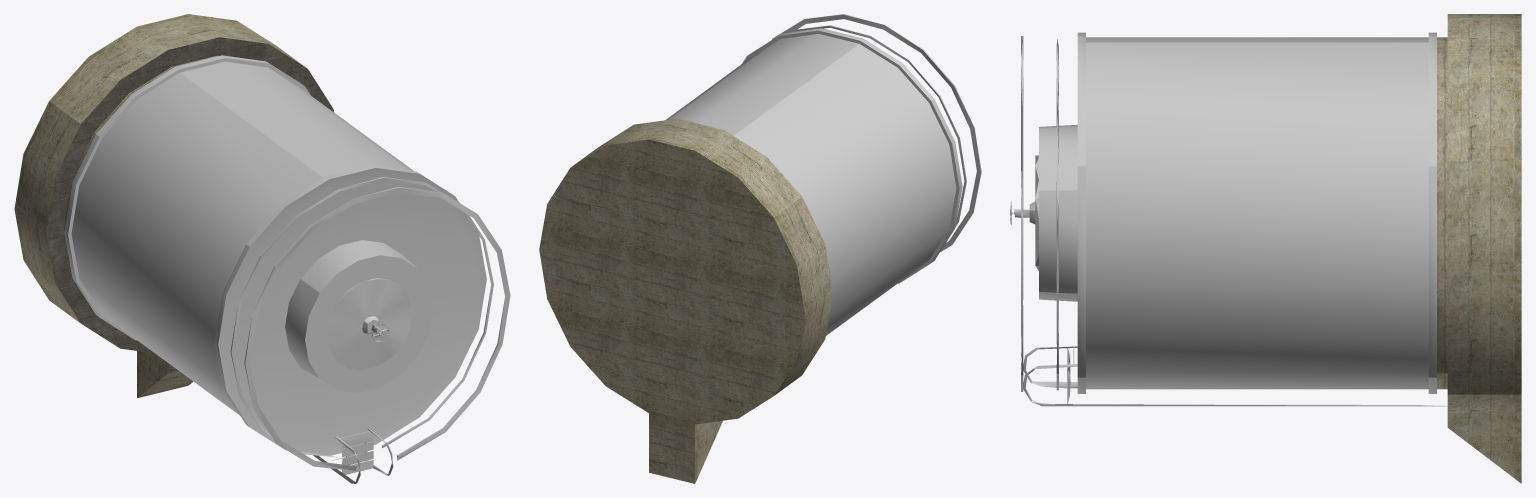
The model's file is tank_2_LOD1.fbx.
The picture shows the model from 3 angles, left to right: view 1: azimuth 30°, elevation 25°; view 2: azimuth 150°, elevation 25°; view 3: azimuth 270°, elevation 25°; orthographic projection. The views are drawn at different scales.
Parts seen in each view (by area): view 1: MSH-Object; view 2: MSH-Object; view 3: MSH-Object.
Boxes of the visible parts, x1,y1,x2,y2 form: MSH-Object: [14, 14, 510, 483]; MSH-Object: [539, 14, 981, 483]; MSH-Object: [1010, 14, 1521, 483].
Size of the model in its own units: 31.02 by 37.18 by 39.66.
